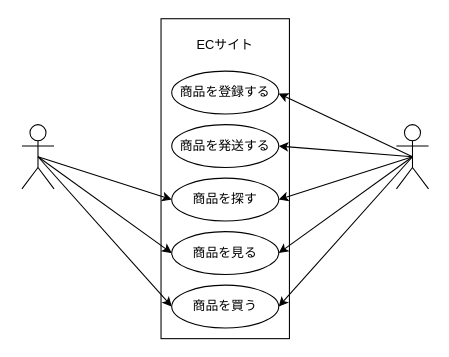
This 449x357 diagram has some shape labels left out. Each missing label, with the centre of its shape:
"管理者" belongs at pixel 37 156.
"購入者" belongs at pixel 412 156.
